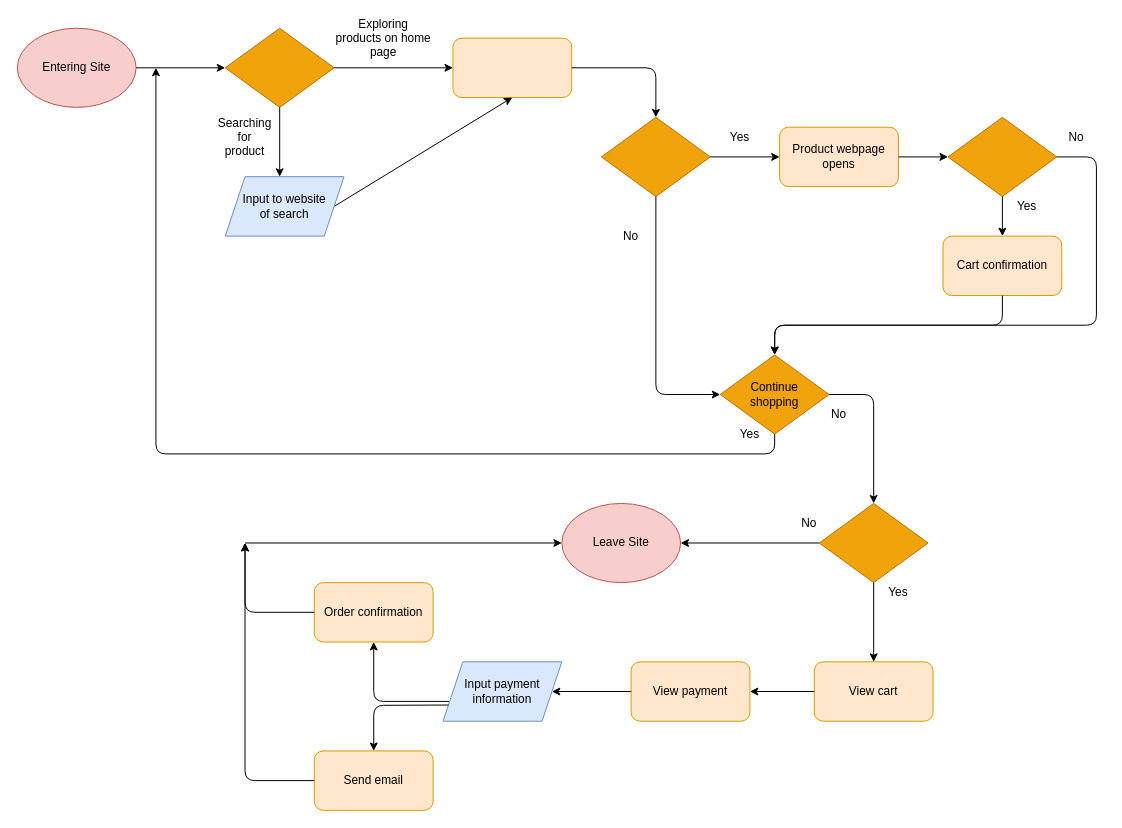
Image size: 1122x828. Some labels were removed from this diagram. Each missing label, with the centre of its shape:
"Add to cart" belongs at [1002,156].
"Checkout" belongs at [873,542].
"Decision" belongs at [279,67].
"Look over products" belongs at [512,67].
"View specific product" belongs at [655,156].
